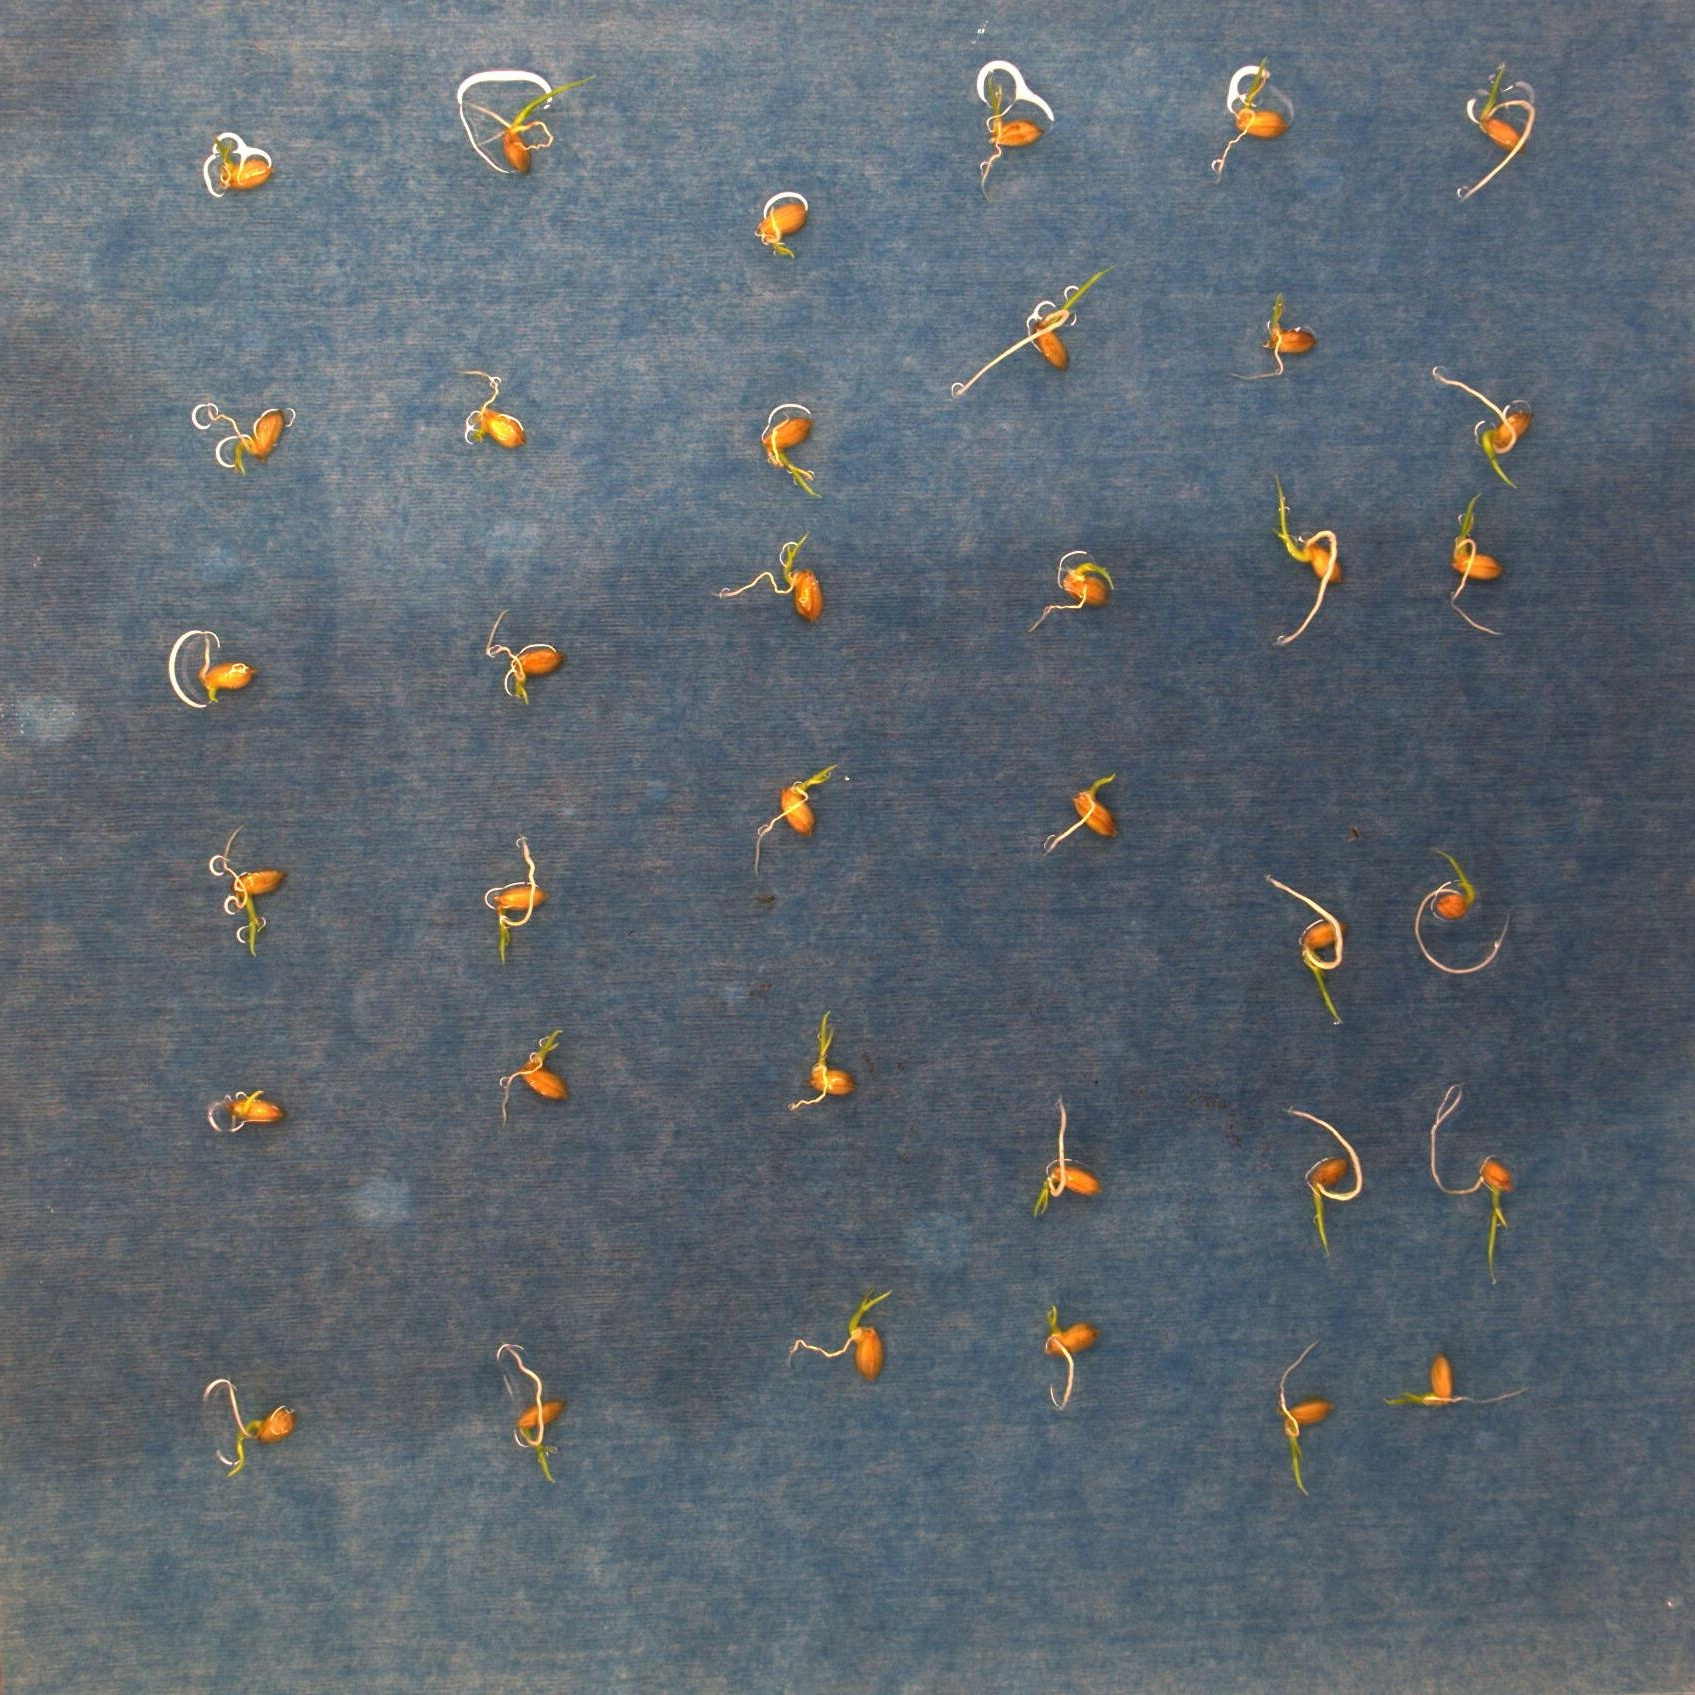not sprout: (463, 369, 531, 453), (200, 632, 251, 705)
sprout: (958, 262, 1101, 400), (1426, 1085, 1512, 1284), (1414, 844, 1513, 973), (467, 75, 594, 174), (1433, 360, 1530, 489), (1265, 872, 1346, 1024), (1284, 1104, 1361, 1259), (1273, 473, 1340, 643), (1458, 61, 1535, 203), (751, 761, 835, 875), (787, 1293, 896, 1381), (498, 1335, 562, 1484), (719, 536, 823, 626), (1211, 54, 1281, 183), (1381, 1357, 1537, 1412), (220, 826, 286, 958), (1276, 1341, 1332, 1495), (1450, 490, 1504, 640), (1032, 1097, 1099, 1217), (978, 71, 1042, 194), (1231, 293, 1316, 379), (222, 1375, 293, 1475), (1028, 549, 1114, 629), (489, 840, 543, 964), (487, 608, 559, 702), (787, 1009, 854, 1107), (203, 394, 286, 473), (498, 1028, 568, 1121), (1042, 1301, 1096, 1411), (1046, 773, 1118, 854), (764, 413, 823, 501), (754, 199, 810, 261), (216, 135, 272, 194), (227, 1087, 284, 1133)
